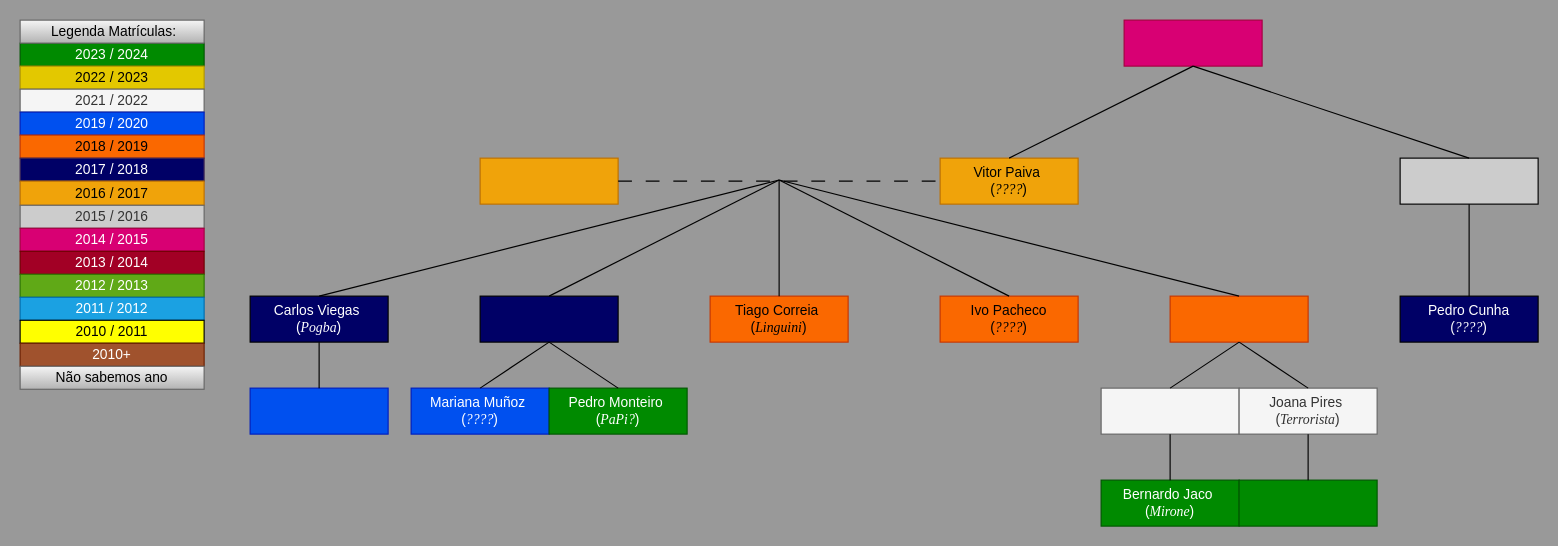
This 1558x546 diagram has some shape labels left out. Here are the shapes that lost their labels. From the top down, the centre of each, then its label:
[1192,42]: João Pinto ( ???? )
[548,180]: Inês Batista ( ???? )
[1468,180]: João Pedro Simões ( ???? )
[548,318]: Patrícia Padeiro ( )
[1238,318]: Gonçalo Caroça ( ???? )
[318,410]: Beatriz Tereso de Sá ( ???? )
[1169,410]: João Novo ( Dillaz 2.0 )
[1307,502]: João Martins ( Mega Toukas )
